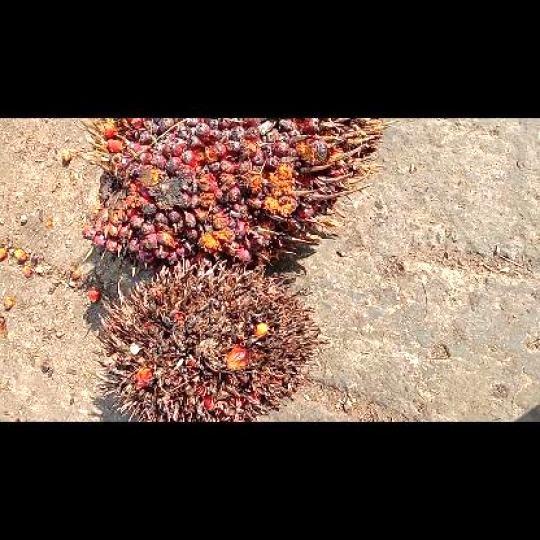masak: (80, 118, 382, 264)
terlalu masak: (98, 260, 328, 420)
